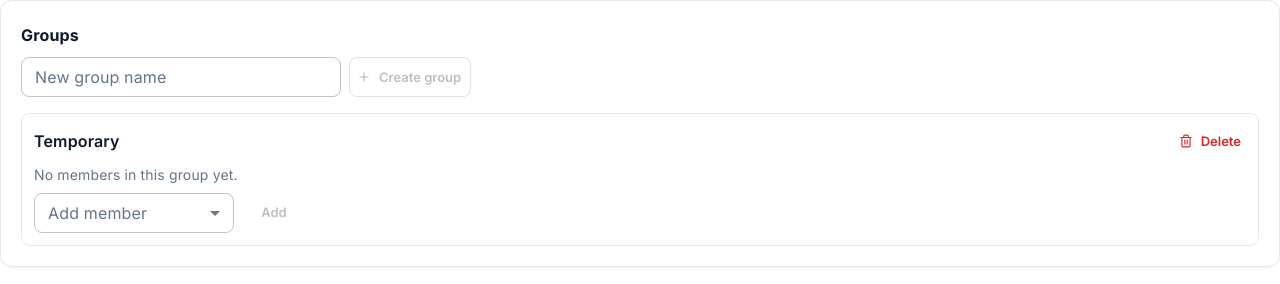
Test: OrganizationGroupsCard › deletes a group
Click the button with aria-label "Delete Temporary" at (1211, 141), box 1176,126 -> 1246,157
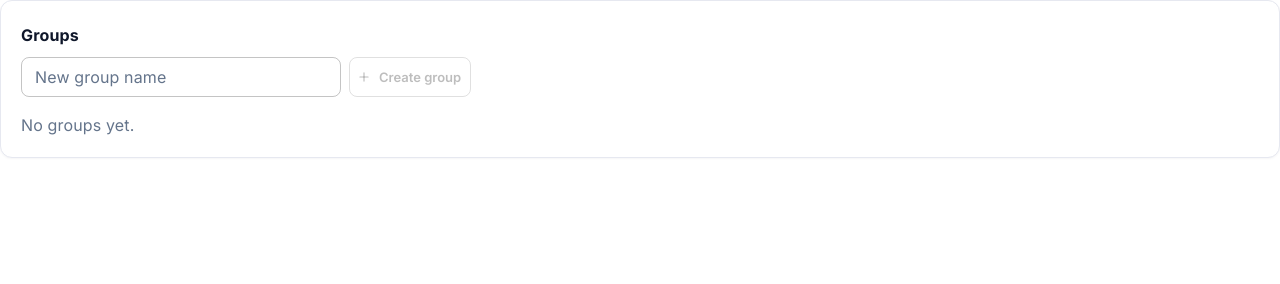
Expected: the text "Temporary" is gone
